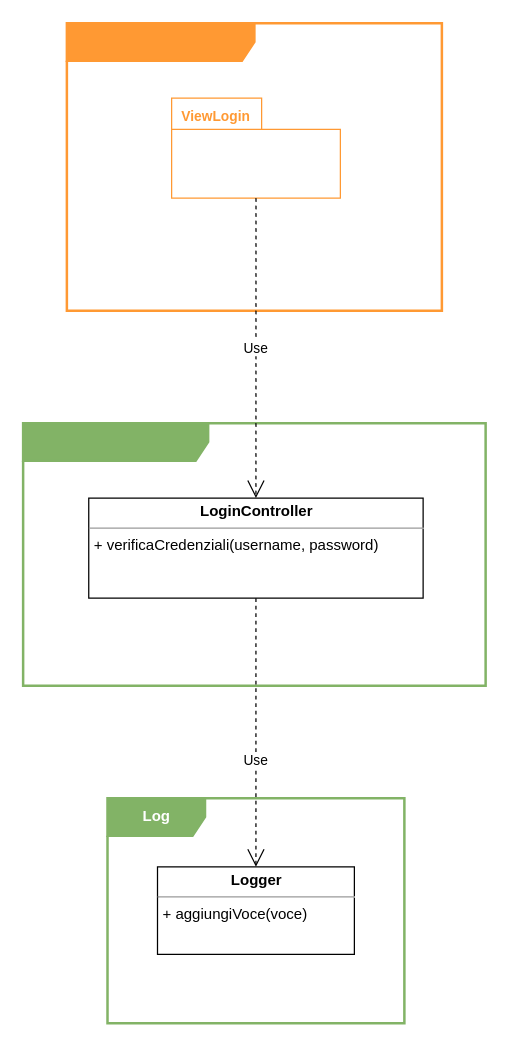
The diagram is 508 pixels wide and 1045 high, and some of its shapes have lost their labels. Each missing label, with the box of its shape:
GestioneProprietario: (21, 421, 486, 686)
InterfacciaLogin: (65, 21, 442, 311)
